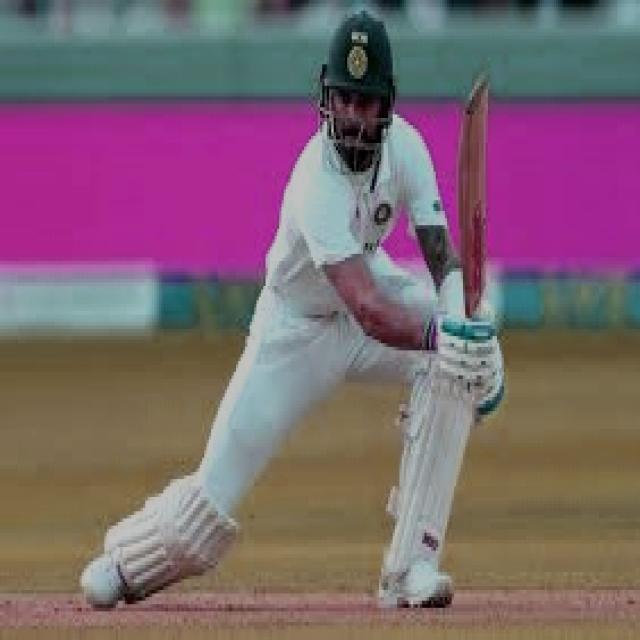bat: (460, 75, 490, 319)
toe: (462, 73, 488, 115)
